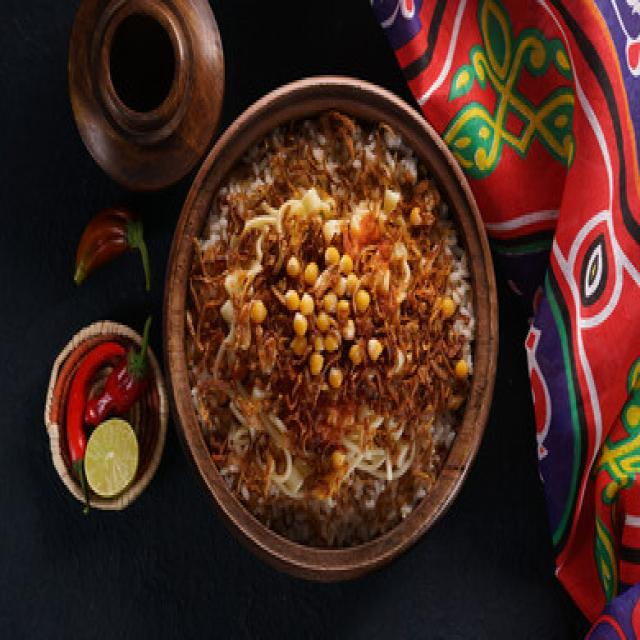felfel: (48, 322, 157, 500), (74, 206, 154, 293)
koshary: (184, 117, 476, 542)
lemon: (84, 416, 137, 497)
